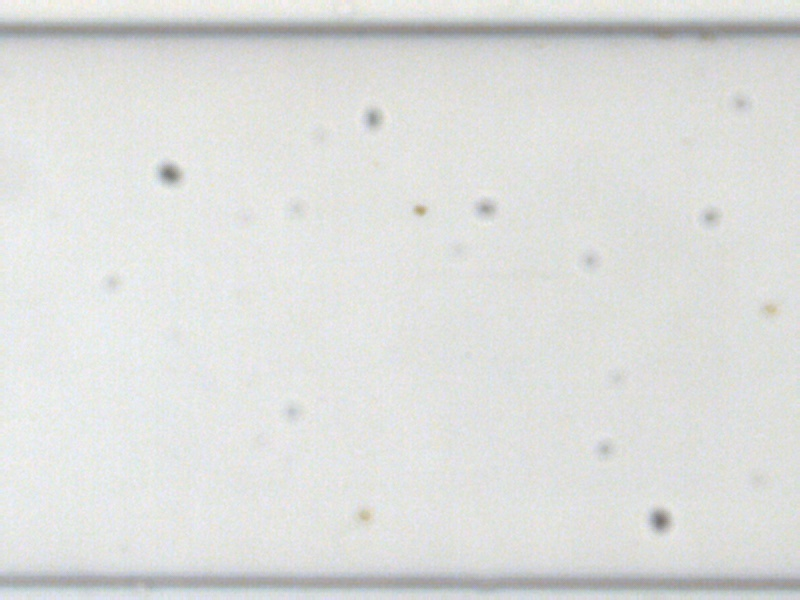Chlorella: (757, 300, 779, 316), (356, 507, 373, 523), (412, 200, 426, 214)
